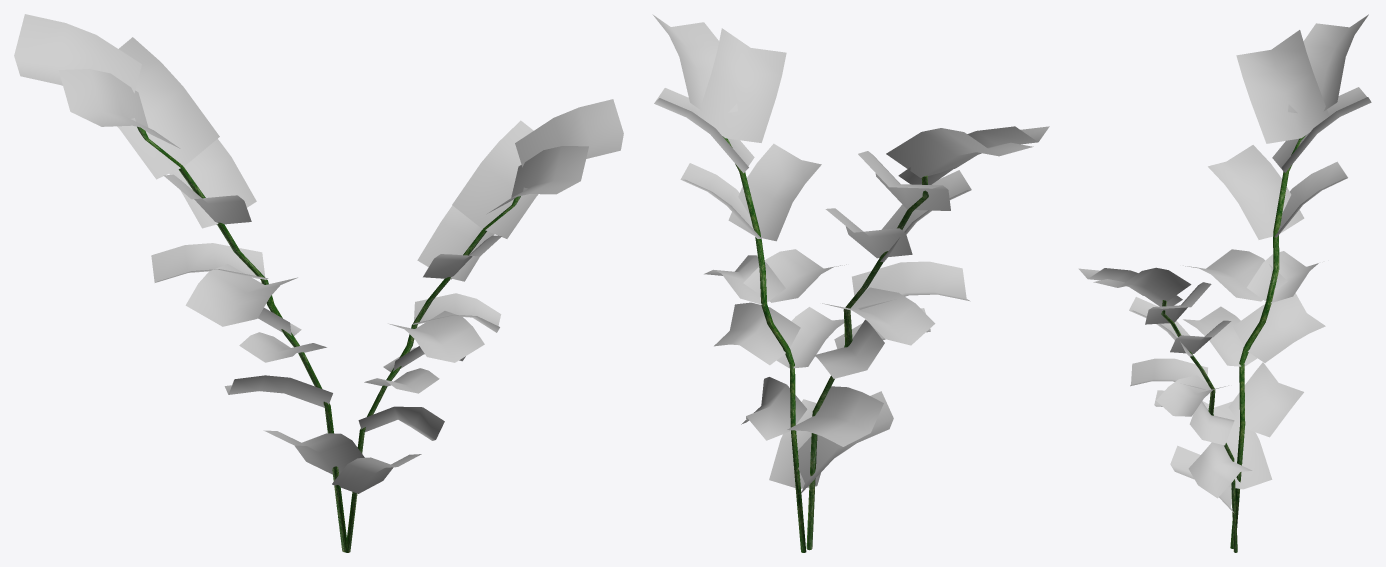
File: plant m.fbx
The picture shows the model from 3 angles, left to right: view 1: azimuth 30°, elevation 25°; view 2: azimuth 150°, elevation 25°; view 3: azimuth 270°, elevation 25°; orthographic projection. The views are drawn at different scales.
Visible parts, largest first — view 1: plant_m_Form26; view 2: plant_m_Form26; view 3: plant_m_Form26.
Part boxes in pixels (bbox=[...]): plant_m_Form26: bbox=[14, 14, 623, 552]; plant_m_Form26: bbox=[652, 14, 1049, 552]; plant_m_Form26: bbox=[1078, 14, 1371, 552].
Size of the model in its own units: 54.72 by 57.69 by 34.79.
